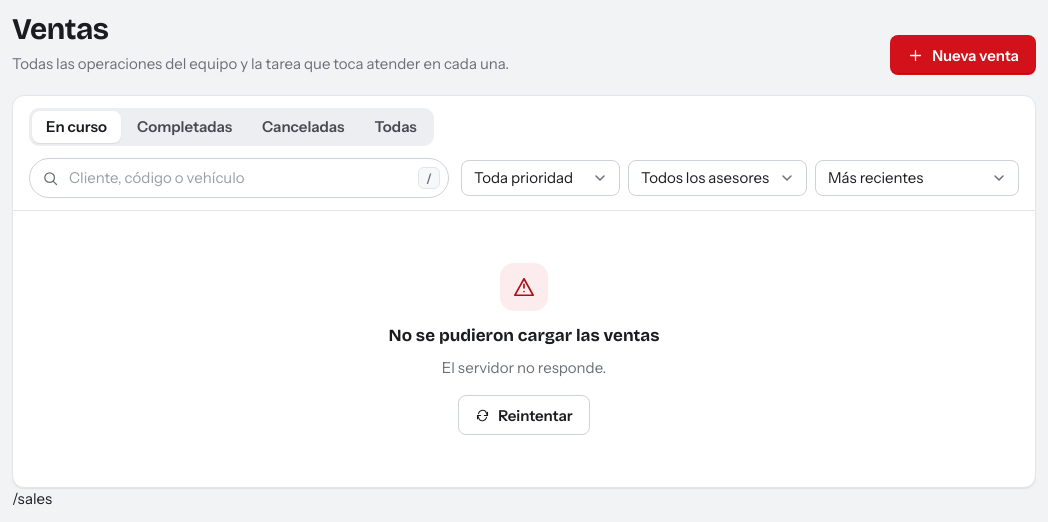
SalesPage › shows the server's message, and can try again, when the list fails
Expected: the text "No se pudieron cargar las ventas" is shown, [388, 323, 660, 348]
Expected: the text "El servidor no responde." is shown, [442, 356, 606, 379]
Click the button "Reintentar": [524, 415] box [458, 395, 590, 435]
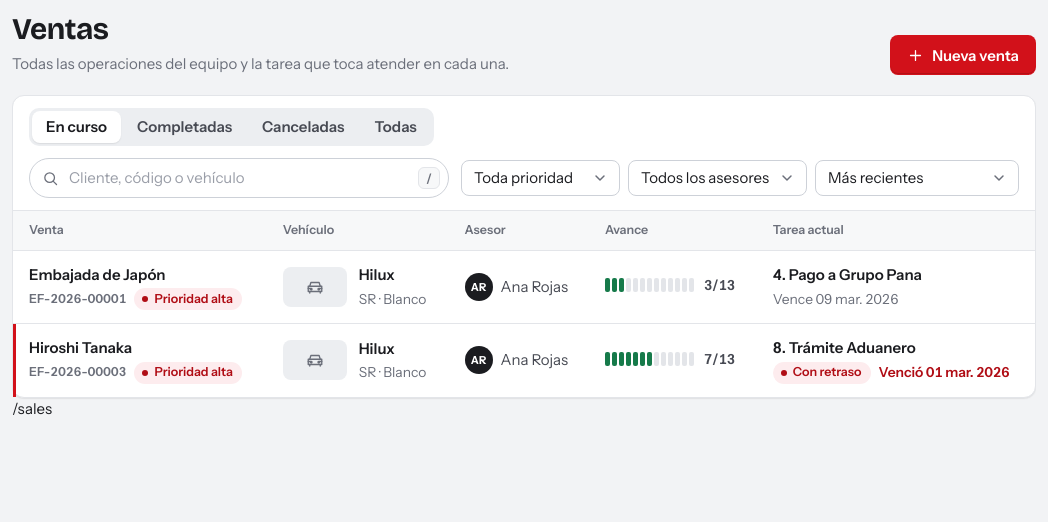
Expected: the link "Embajada de Japón" is shown, [29, 265, 166, 284]
